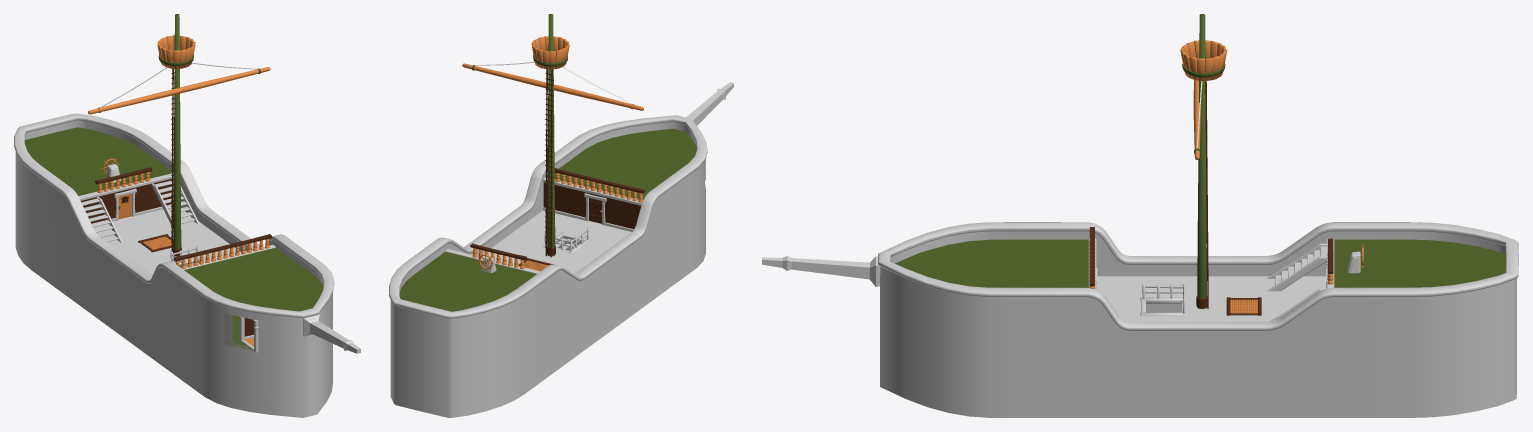
The model's file is spacepirateshipfinal.fbx.
3 views of the same model, side by side, from view 1: azimuth 30°, elevation 25°; view 2: azimuth 150°, elevation 25°; view 3: azimuth 270°, elevation 25° (orthographic). The views are drawn at different scales.
Parts seen in each view (by area): view 1: Aussenwand, Reling, Back, Front, Deck, Mast, Base.004, Quermast, CrowsNest, Bugspriet, Stairs2, Stairs1 (+6 smaller); view 2: Aussenwand, Front, Reling, Back, Deck, Mast, Ladder, Base.004, Quermast, CrowsNest, Bugspriet, Base (+2 smaller); view 3: Aussenwand, Reling, Front, Back, Deck, Mast, Bugspriet, CrowsNest, Stairs2, Treppenloch.
Part boxes in pixels (x1,y1,x2,y2): Aussenwand: [15, 120, 332, 417]; Reling: [14, 113, 334, 317]; Back: [24, 127, 173, 223]; Front: [184, 247, 323, 349]; Deck: [93, 208, 240, 274]; Mast: [172, 14, 181, 267]; Base.004: [173, 234, 271, 268]; Quermast: [88, 67, 270, 114]; CrowsNest: [157, 35, 195, 68]; Bugspriet: [303, 314, 360, 353]; Stairs2: [81, 197, 123, 243]; Stairs1: [151, 178, 199, 225]; Aussenwand: [390, 121, 705, 417]; Front: [543, 128, 696, 229]; Reling: [389, 115, 707, 318]; Back: [399, 251, 536, 311]; Deck: [483, 210, 631, 273]; Mast: [547, 14, 555, 256]; Ladder: [545, 69, 553, 257]; Base.004: [547, 168, 644, 202]; Quermast: [462, 63, 643, 110]; CrowsNest: [531, 36, 569, 69]; Bugspriet: [686, 82, 733, 125]; Base: [470, 243, 526, 269]; Aussenwand: [880, 231, 1516, 417]; Reling: [878, 222, 1518, 330]; Front: [895, 239, 1088, 287]; Back: [1334, 239, 1505, 287]; Deck: [1096, 276, 1326, 321]; Mast: [1196, 14, 1207, 309]; Bugspriet: [762, 255, 880, 286]; CrowsNest: [1180, 40, 1227, 80]; Stairs2: [1267, 243, 1326, 291]; Treppenloch: [1140, 283, 1186, 315].
Size of the model in its own units: 1591 by 2549 by 4754.
